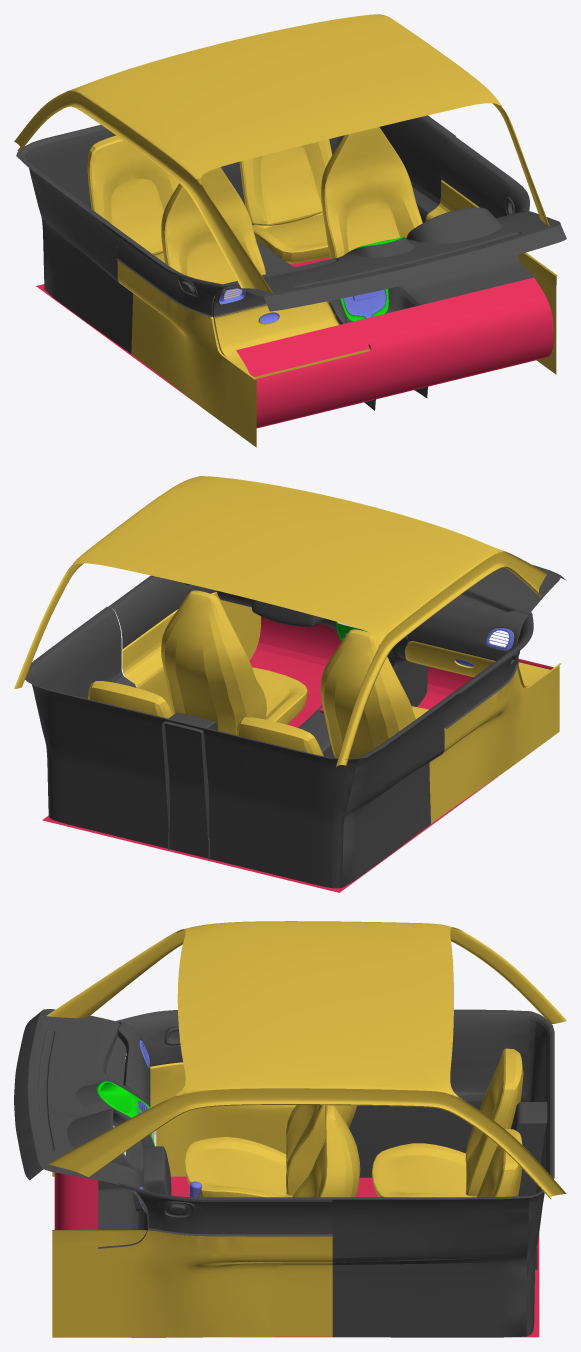
File: Interior_3.fbx
3 views of the same model, one above another, from view 1: azimuth 30°, elevation 25°; view 2: azimuth 150°, elevation 25°; view 3: azimuth 270°, elevation 25° (orthographic). The views are drawn at different scales.
Visible parts, largest first — view 1: Interior_3; view 2: Interior_3; view 3: Interior_3.
Part boxes in pixels (x1,y1,x2,y2): Interior_3: (14, 14, 566, 447); Interior_3: (14, 476, 566, 892); Interior_3: (14, 921, 566, 1337).
Size of the model in its own units: 163 by 105 by 201.
